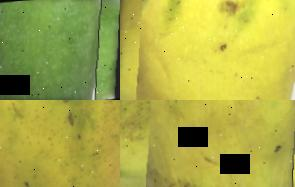Ripe: (120, 0, 295, 100), (120, 100, 295, 187), (0, 100, 120, 187)
Unripe: (0, 0, 120, 100)
